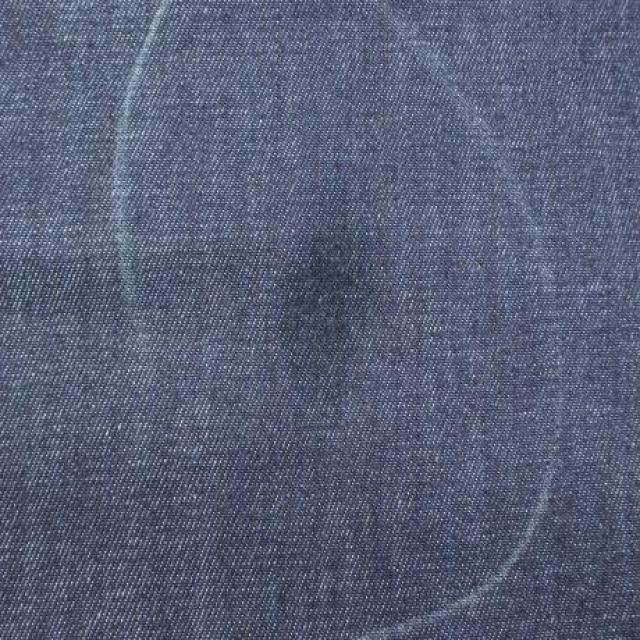stains: (122, 20, 560, 632), (281, 224, 371, 388), (115, 13, 150, 342)
